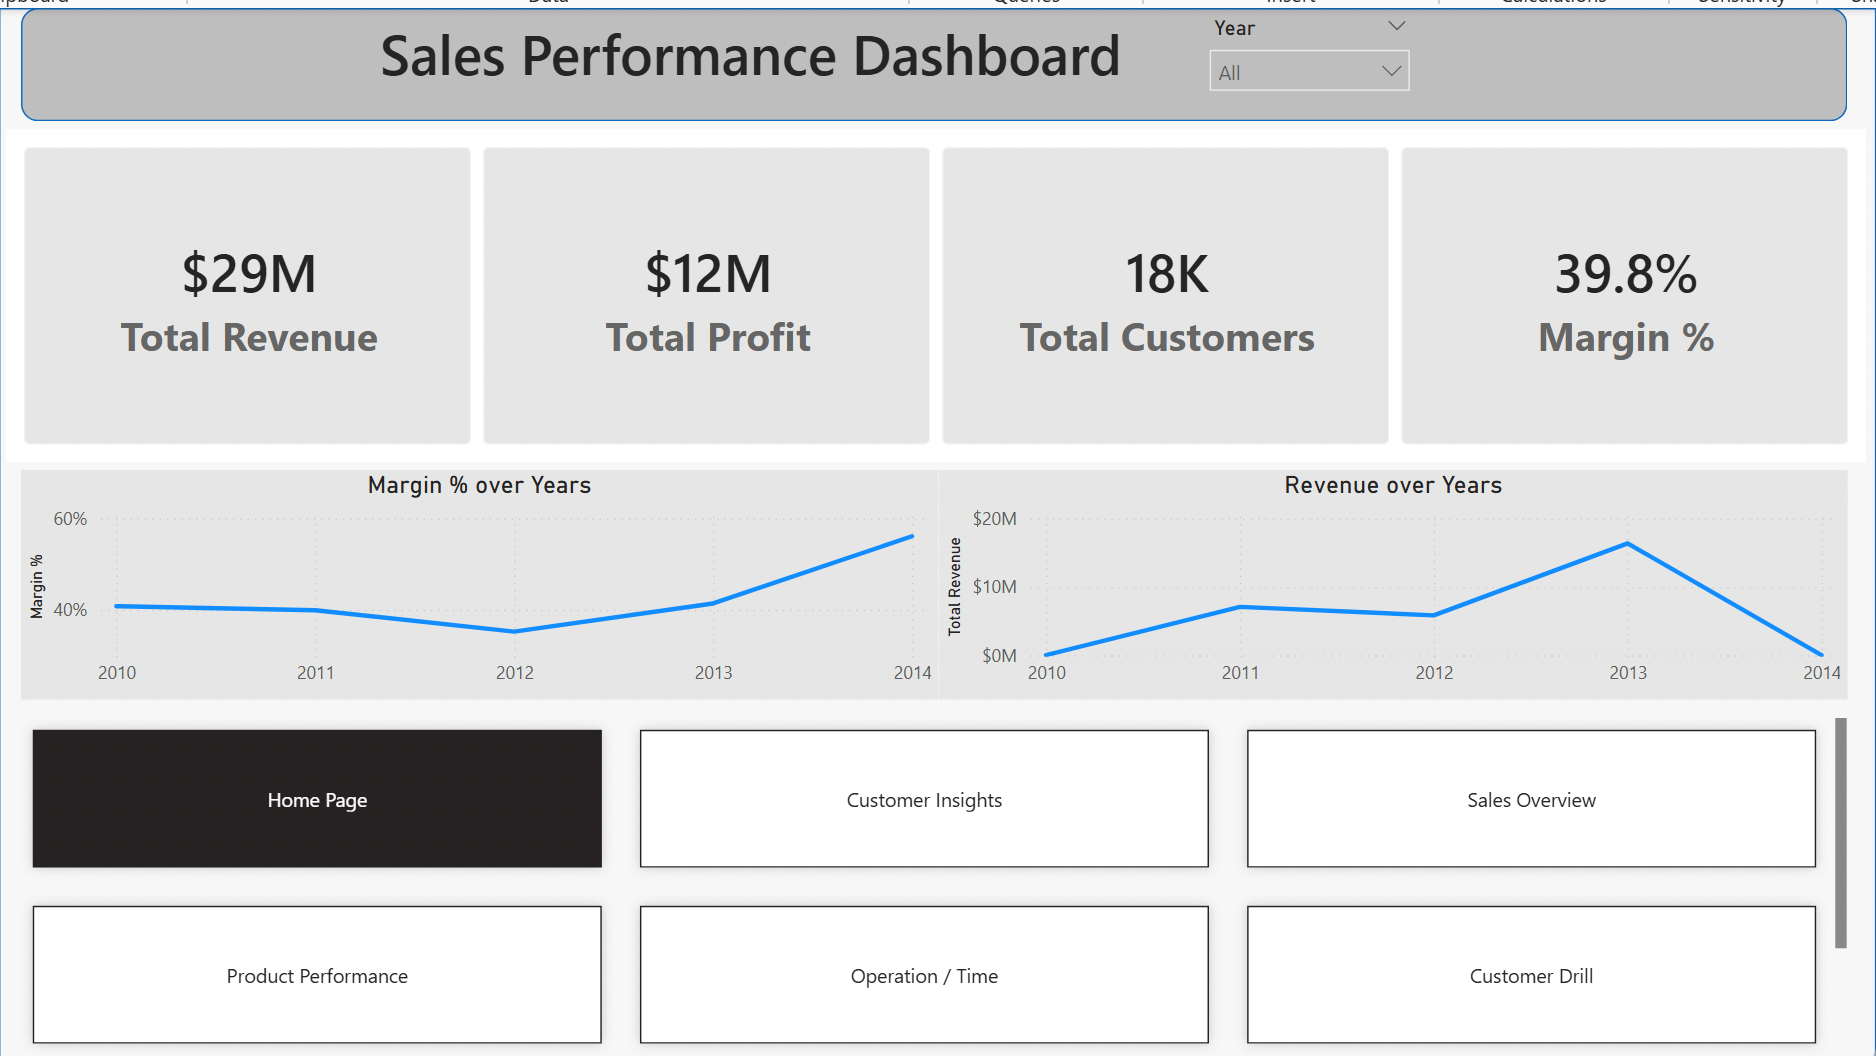

The page's visual inventory and layout, read from the dashboard file:
{"tool":"powerbi","page":{"name":"Home Page","canvas":[1280,720],"ordinal":0},"visuals":[{"type":"shape","title":"Background ","box":[0,0,1280,720.1],"z":0},{"type":"shape","box":[15.4,0,1245.2,77.2],"z":1000},{"type":"cardVisual","fields":{"Data":["_measures.total_revenue","_measures.total_profit","_measures.total_customers","_measures.Margin %"]},"box":[0,77.2,1280,237.5],"z":2000},{"type":"slicer","fields":{"Values":["date_dim.Year"]},"box":[814.8,0,156.6,77.5],"z":3000},{"type":"pageNavigator","box":[15.4,484.6,1245.2,235.5],"z":4000},{"type":"textbox","box":[167.7,0,689.8,77.5],"z":5000},{"type":"lineChart","title":"Margin % over Years","fields":{"Y":["_measures.Margin %"],"Category":["date_dim.Year"]},"box":[15.4,314.7,625.5,156.4],"z":6000},{"type":"lineChart","title":"Revenue over Years","fields":{"Y":["_measures.Total Revenue"],"Category":["date_dim.Year"]},"box":[641,314.7,619.7,156.4],"z":7000}]}

Visuals, with their boxes on the page's 1280x720 design canvas (x1, y1, x2, y2). These are canvas units, not pixel positions in the 1876x1056 screenshot, which may show the page scaled, cropped or inside an application window:
"Background " shape: 0 0 1280 720
shape: 15 0 1261 77
cardVisual - _measures.total_revenue x _measures.total_profit: 0 77 1280 315
slicer - date_dim.Year: 815 0 971 78
pageNavigator: 15 485 1261 720
textbox: 168 0 858 78
"Margin % over Years" lineChart: 15 315 641 471
"Revenue over Years" lineChart: 641 315 1261 471
